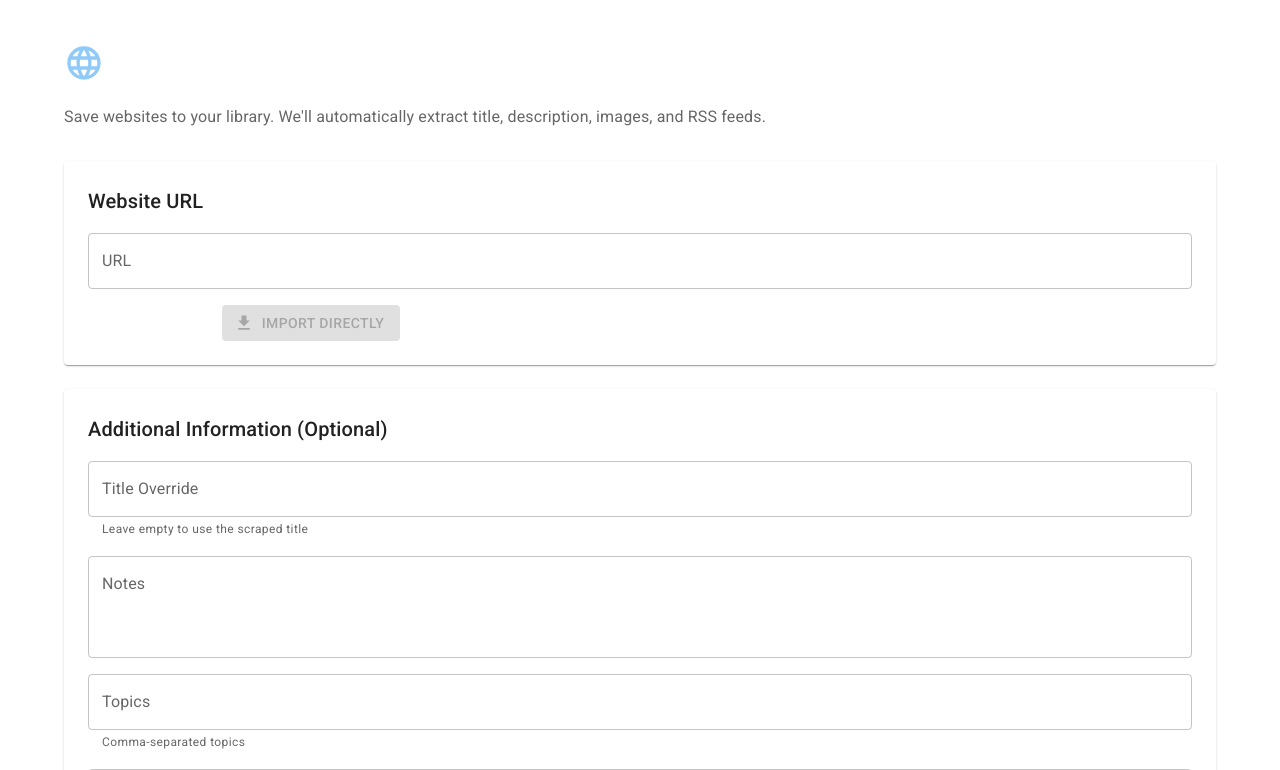
Scenario: WebsiteImportPage › should disable buttons while loading
Type "https://test.com" into the field with placeholder "https://example.com" at (640, 261), box [88,233,1192,289]
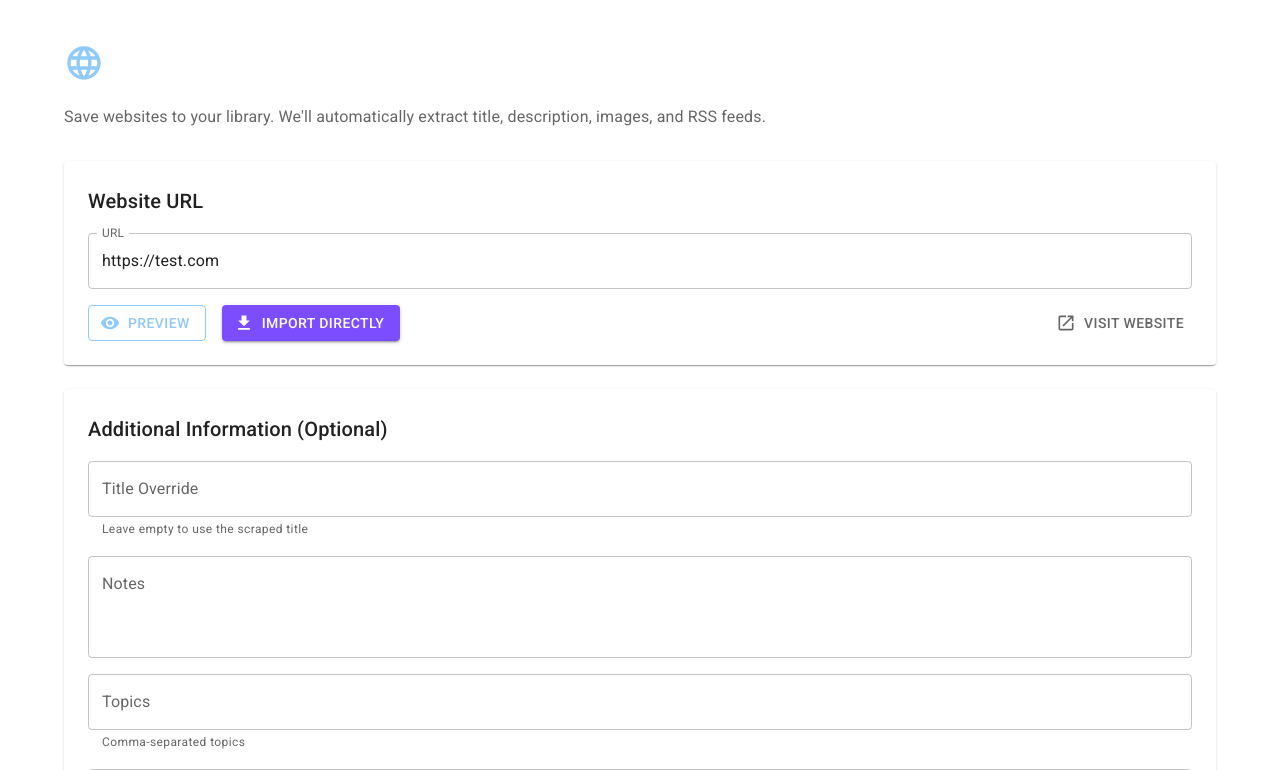
Click the button "Preview" at (147, 323), box [88,305,206,341]
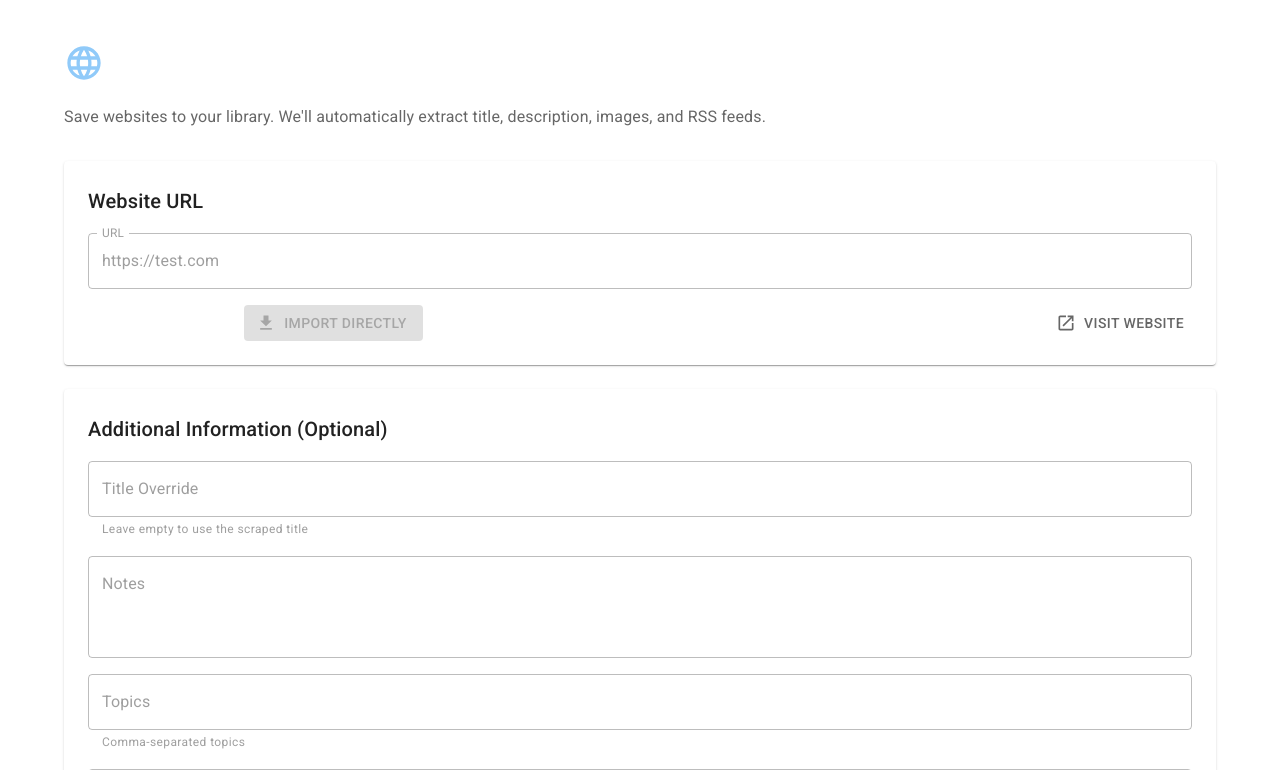
Result: the button "Import Directly" is disabled at [244,305,423,341]
